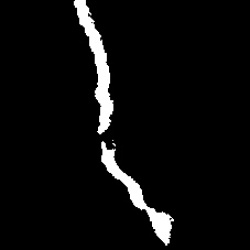crack: (100, 142, 175, 245), (75, 2, 114, 134)
